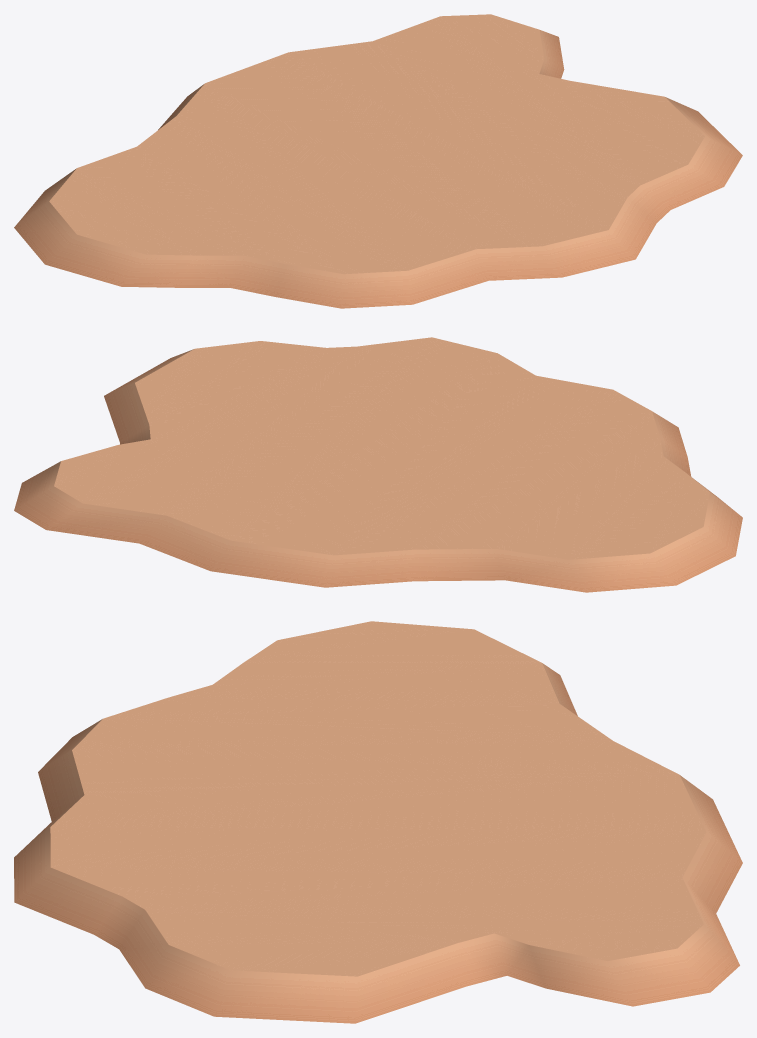
The model's file is patch-sand_lev2.glb.
3 renders of one model, top to bottom at view 1: azimuth 30°, elevation 25°; view 2: azimuth 150°, elevation 25°; view 3: azimuth 270°, elevation 25°, orthographic. The views are drawn at different scales.
Visible parts, largest first — view 1: patch-sand_lev2; view 2: patch-sand_lev2; view 3: patch-sand_lev2.
Boxes of the visible parts, box(x1,y1,x2,y2) form: patch-sand_lev2: box(14, 14, 742, 308); patch-sand_lev2: box(14, 337, 742, 592); patch-sand_lev2: box(14, 621, 742, 1023).
Size of the model in its own units: 9.9 by 0.3199 by 7.72.
1 material, 1 textured.
